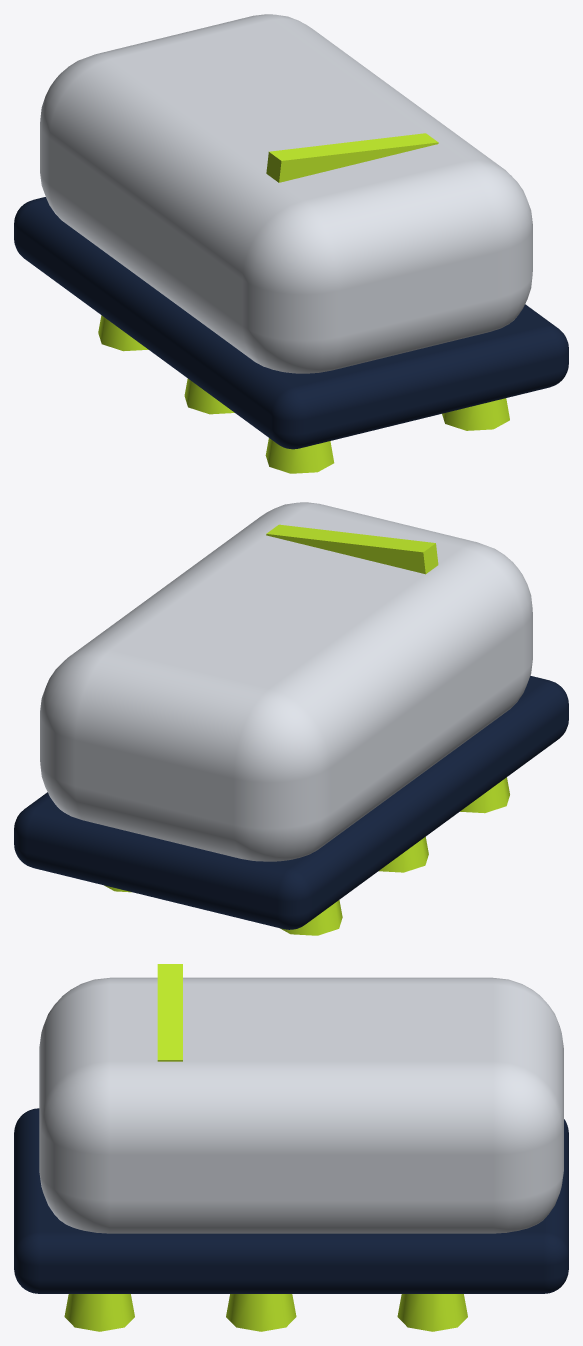
3 renders of one model, top to bottom at view 1: azimuth 30°, elevation 25°; view 2: azimuth 150°, elevation 25°; view 3: azimuth 270°, elevation 25°, orthographic.
Visible parts, largest first — view 1: feet.velocity-cleats.upper-l, feet.velocity-cleats.sole-l, feet.velocity-cleats.studs-l, feet.velocity-cleats.lace-2-l; view 2: feet.velocity-cleats.upper-l, feet.velocity-cleats.sole-l, feet.velocity-cleats.lace-2-l, feet.velocity-cleats.studs-l; view 3: feet.velocity-cleats.upper-l, feet.velocity-cleats.sole-l, feet.velocity-cleats.studs-l, feet.velocity-cleats.lace-2-l.
Part boxes in pixels (x1=…): feet.velocity-cleats.upper-l: x1=40, y1=14, x2=532, y2=373; feet.velocity-cleats.sole-l: x1=14, y1=197, x2=568, y2=449; feet.velocity-cleats.studs-l: x1=98, y1=315, x2=509, y2=473; feet.velocity-cleats.lace-2-l: x1=266, y1=133, x2=438, y2=182; feet.velocity-cleats.upper-l: x1=40, y1=502, x2=532, y2=861; feet.velocity-cleats.sole-l: x1=14, y1=675, x2=568, y2=929; feet.velocity-cleats.lace-2-l: x1=266, y1=524, x2=438, y2=574; feet.velocity-cleats.studs-l: x1=104, y1=777, x2=509, y2=935; feet.velocity-cleats.upper-l: x1=39, y1=977, x2=563, y2=1233; feet.velocity-cleats.sole-l: x1=14, y1=1108, x2=568, y2=1293; feet.velocity-cleats.studs-l: x1=64, y1=1294, x2=467, y2=1331; feet.velocity-cleats.lace-2-l: x1=157, y1=964, x2=182, y2=1061.
Bounding box in the file's own units: 0.335 × 0.2982 × 0.55.
